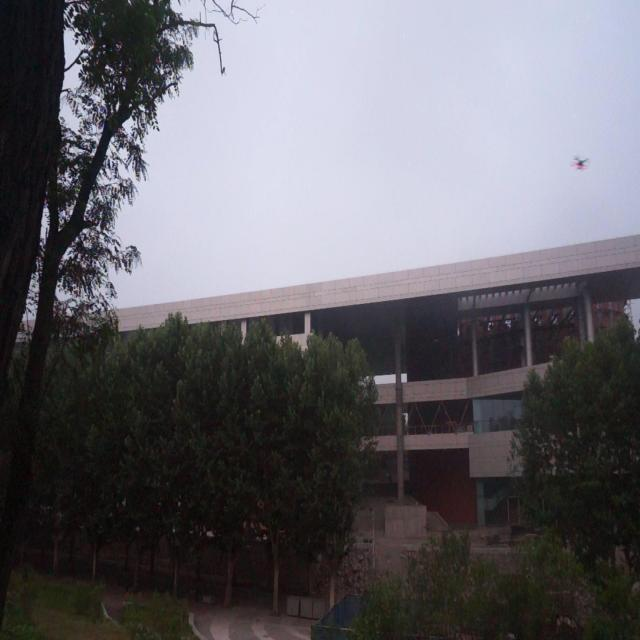UAV: (570, 155, 591, 170)
